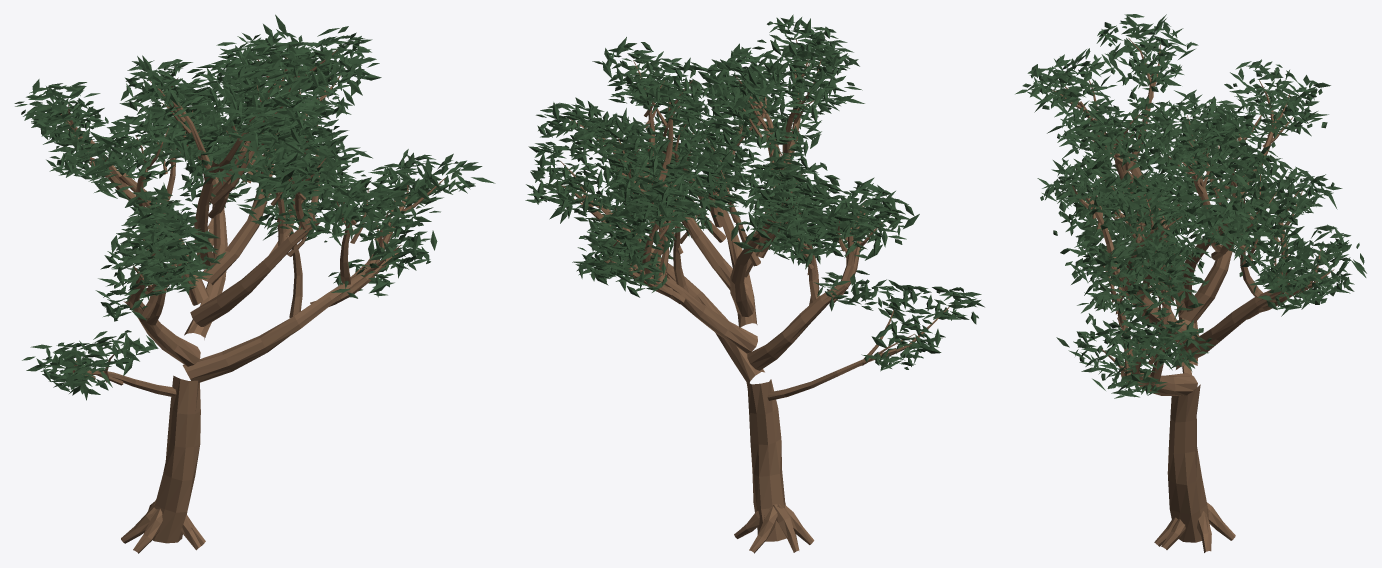
The model's file is windswept-pine.glb.
3 views of the same model, side by side, from view 1: azimuth 30°, elevation 25°; view 2: azimuth 150°, elevation 25°; view 3: azimuth 270°, elevation 25° (orthographic). The views are drawn at different scales.
Parts seen in each view (by area): view 1: individual-folded-leaves, connected-curved-wood; view 2: individual-folded-leaves, connected-curved-wood; view 3: individual-folded-leaves, connected-curved-wood.
Boxes of the visible parts, left/top/right/bottom form: individual-folded-leaves: left=14, top=14, right=495, bottom=400; connected-curved-wood: left=51, top=49, right=445, bottom=553; individual-folded-leaves: left=525, top=14, right=984, bottom=371; connected-curved-wood: left=560, top=37, right=952, bottom=553; individual-folded-leaves: left=1015, top=14, right=1366, bottom=398; connected-curved-wood: left=1052, top=38, right=1334, bottom=552.
Bounding box in the file's own units: 10.28 × 10.99 × 6.89.
